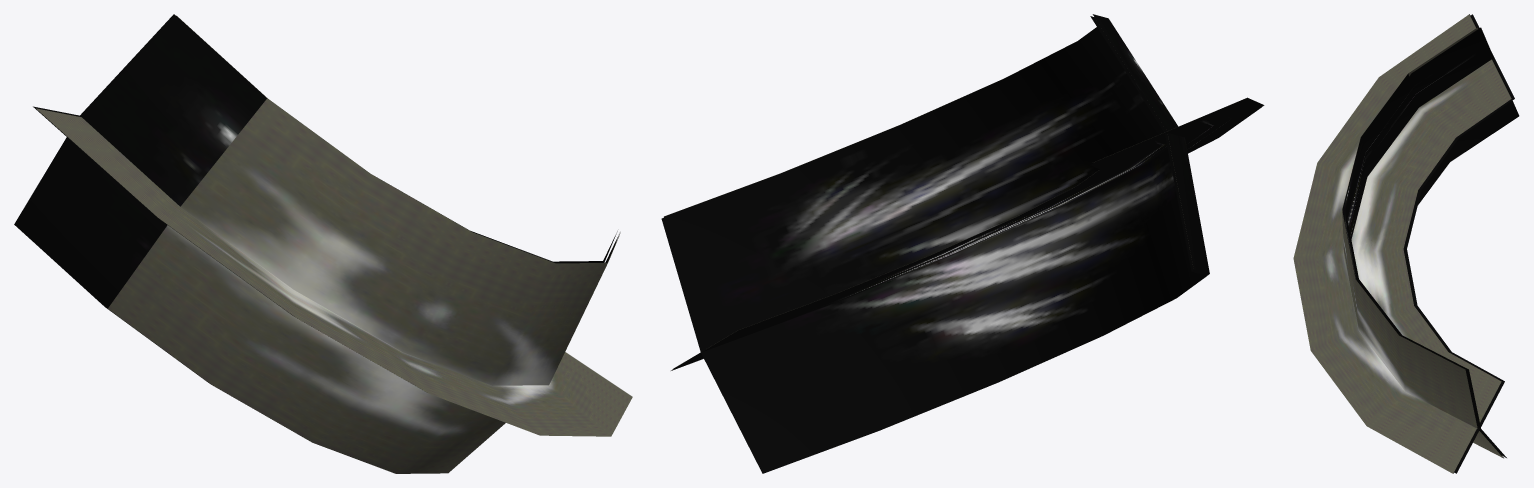
The model's file is Effect_1181_3bigskill_S.fbx.
The picture shows the model from 3 angles, left to right: view 1: azimuth 30°, elevation 25°; view 2: azimuth 150°, elevation 25°; view 3: azimuth 270°, elevation 25°; orthographic projection. The views are drawn at different scales.
Visible parts, largest first — view 1: Sphere002, Sphere002 (2), Sphere002 (1); view 2: Sphere002 (1), Sphere002 (2); view 3: Sphere002, Sphere002 (1), Sphere002 (2).
Part boxes in pixels (bbox=[...]): Sphere002: bbox=[36, 16, 632, 473]; Sphere002 (2): bbox=[16, 15, 619, 430]; Sphere002 (1): bbox=[14, 14, 617, 374]; Sphere002 (1): bbox=[661, 16, 1261, 473]; Sphere002 (2): bbox=[664, 14, 1264, 368]; Sphere002: bbox=[1293, 14, 1511, 473]; Sphere002 (1): bbox=[1345, 14, 1519, 473]; Sphere002 (2): bbox=[1342, 14, 1511, 473].
Size of the model in its own units: 5.84 by 4.91 by 3.01.
3 materials, 3 textured.
